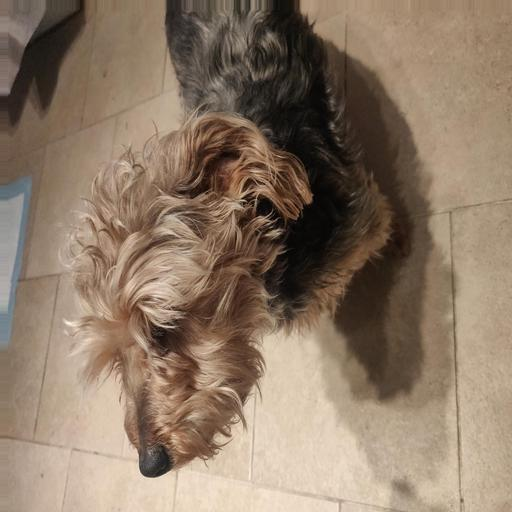dog: (19, 112, 387, 480)
